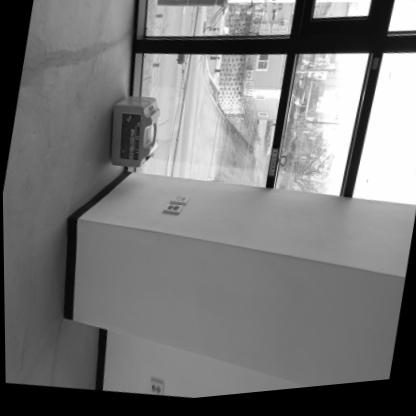DDL: (101, 91, 165, 175)
